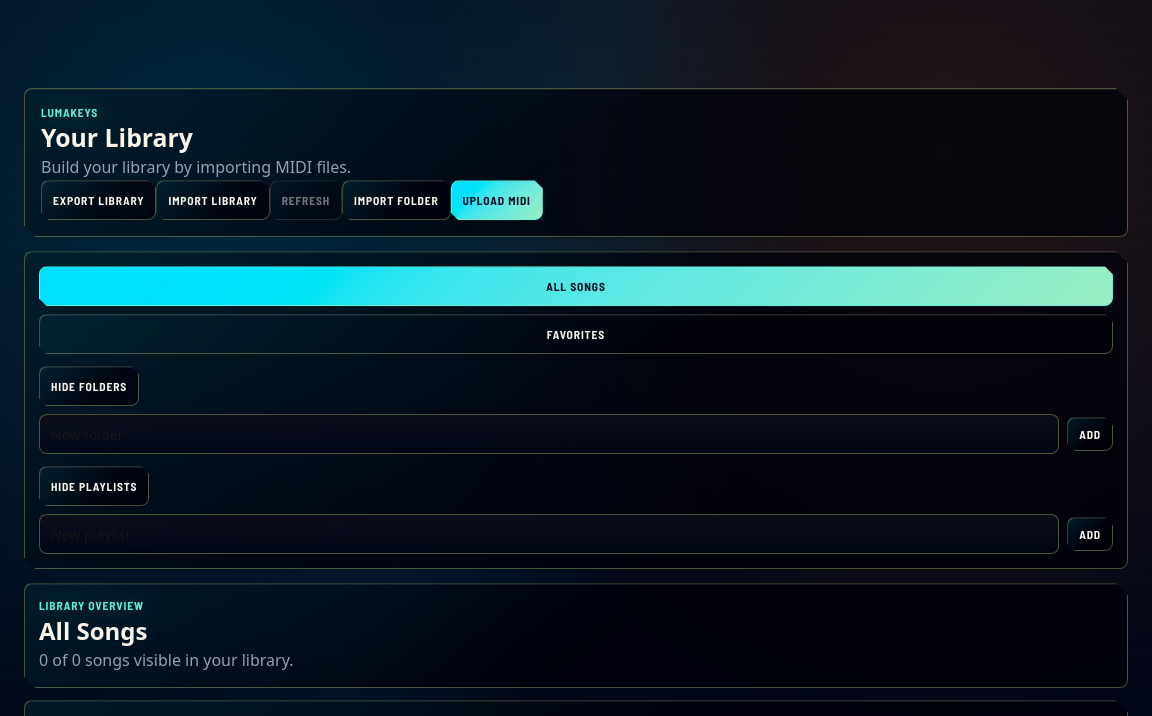
LibraryScreen › shows actual web import error messages in the library feedback
Expected: the text "Build your library by importing MIDI files." is shown, [41, 156, 351, 178]
Click the button "Upload MIDI" at (497, 200), box [450, 180, 543, 220]
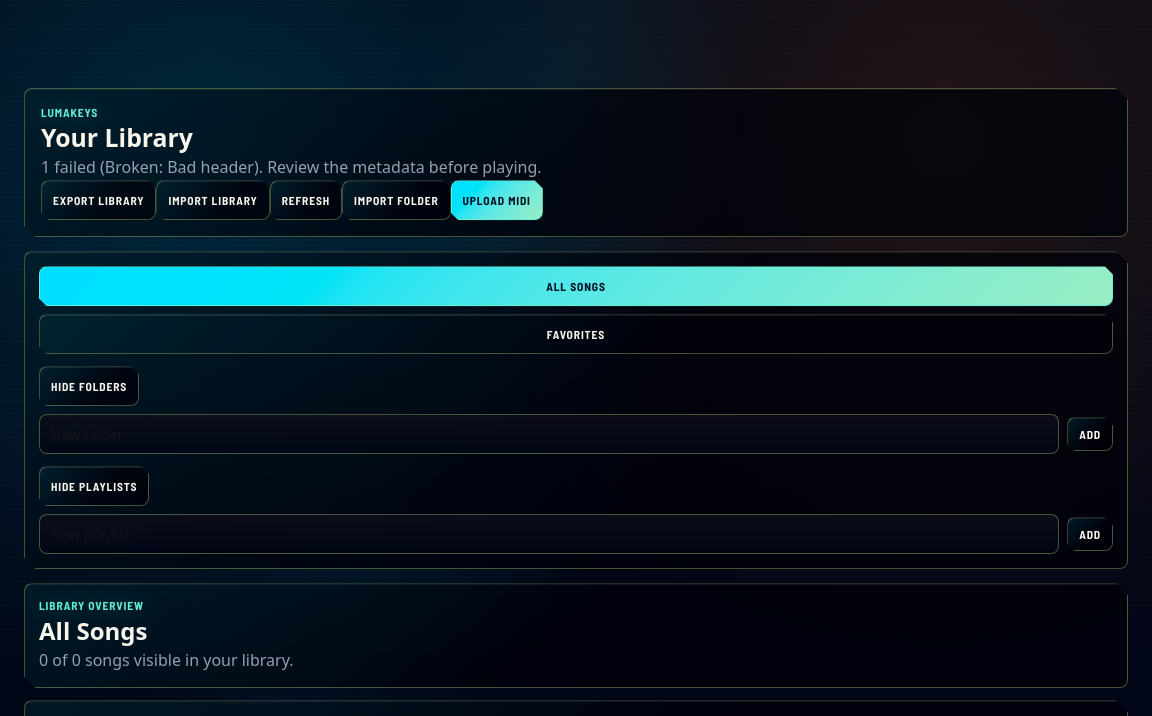
Expected: the text "Broken: Bad header" is shown, [41, 156, 542, 178]
